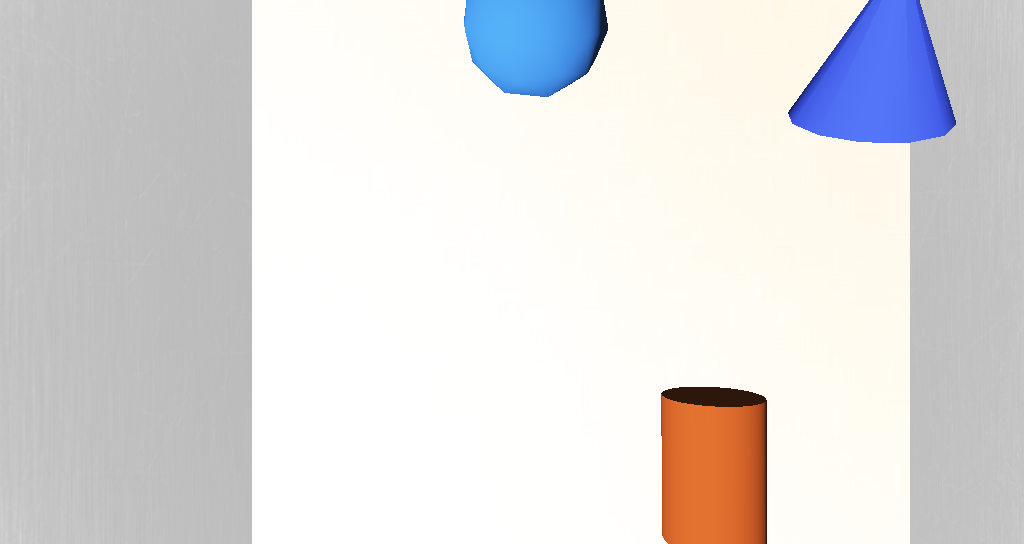cone: (542, 305, 589, 353)
cylinder: (583, 153, 684, 239)
sphere: (455, 167, 515, 215)
